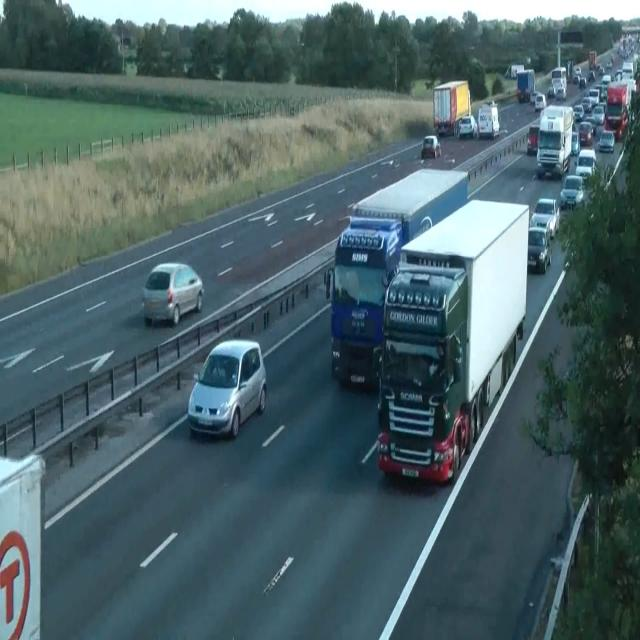bus: (187, 338, 267, 439), (141, 262, 203, 326), (421, 134, 441, 158), (457, 115, 477, 138), (526, 124, 540, 154), (578, 121, 593, 148), (599, 130, 615, 152), (592, 105, 605, 124), (534, 93, 546, 112), (571, 130, 579, 156), (572, 104, 584, 121), (530, 90, 540, 104), (547, 86, 554, 98)
car: (374, 198, 529, 484), (323, 214, 403, 390)
jeep: (526, 58, 636, 274), (530, 196, 560, 238), (527, 226, 551, 273), (560, 173, 584, 209), (574, 148, 596, 180)
minibus: (324, 167, 468, 390), (536, 104, 574, 179), (432, 79, 472, 136), (603, 81, 633, 141), (478, 102, 500, 140), (517, 69, 535, 103), (551, 66, 567, 100), (504, 64, 524, 78), (622, 60, 634, 78), (588, 51, 597, 69)
